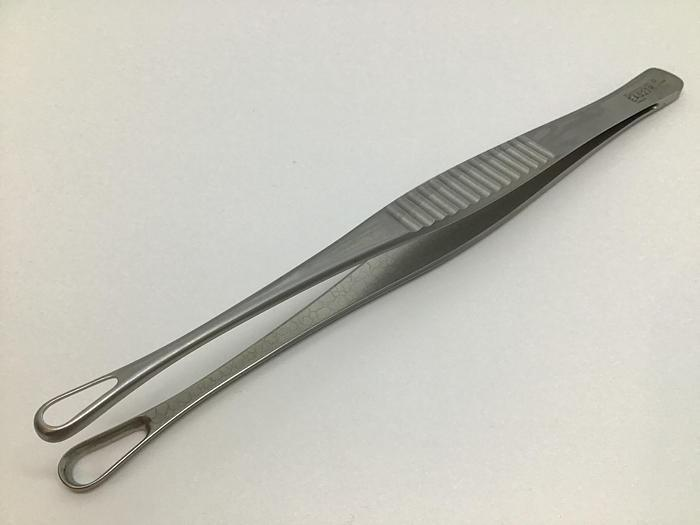Eye Intestinal Forceps: (28, 62, 684, 496)
